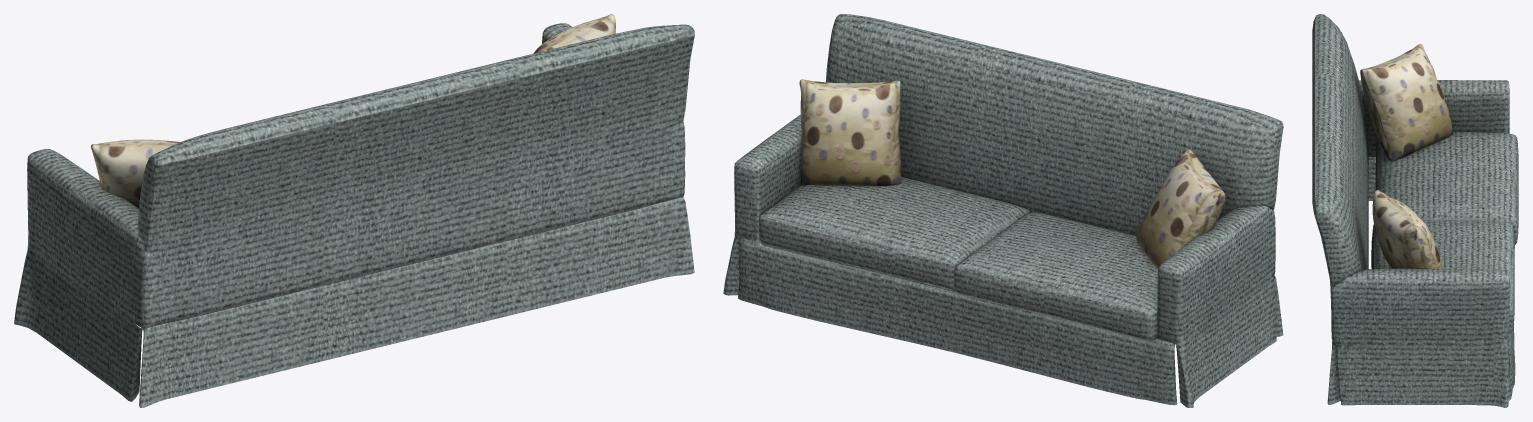
Rendered from raw_model.obj.
The picture shows the model from 3 angles, left to right: view 1: azimuth 30°, elevation 25°; view 2: azimuth 150°, elevation 25°; view 3: azimuth 270°, elevation 25°; orthographic projection. The views are drawn at different scales.
Parts seen in each view (by area): view 1: solid; view 2: solid; view 3: solid.
Boxes of the visible parts, left/top/right/bottom form: solid: left=14, top=14, right=694, bottom=407; solid: left=723, top=14, right=1283, bottom=407; solid: left=1312, top=14, right=1518, bottom=407.
Bounding box in the file's own units: 1.53 × 0.662 × 0.6354.
1 material, 1 textured.
